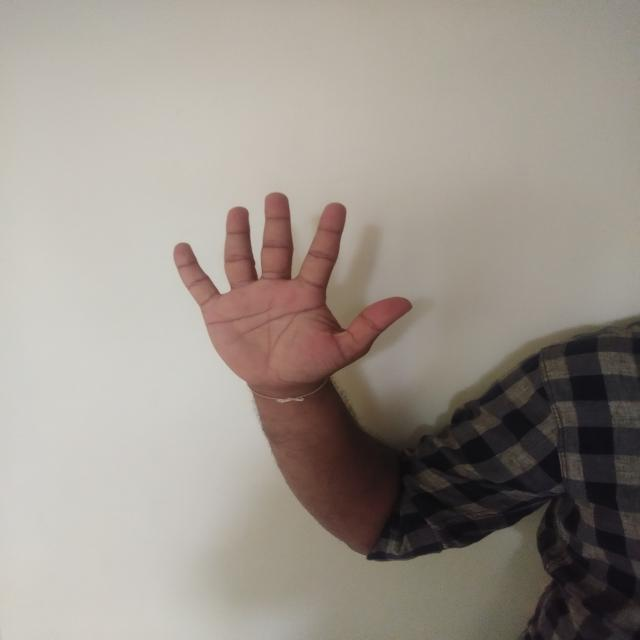Yes: (148, 174, 436, 412)
